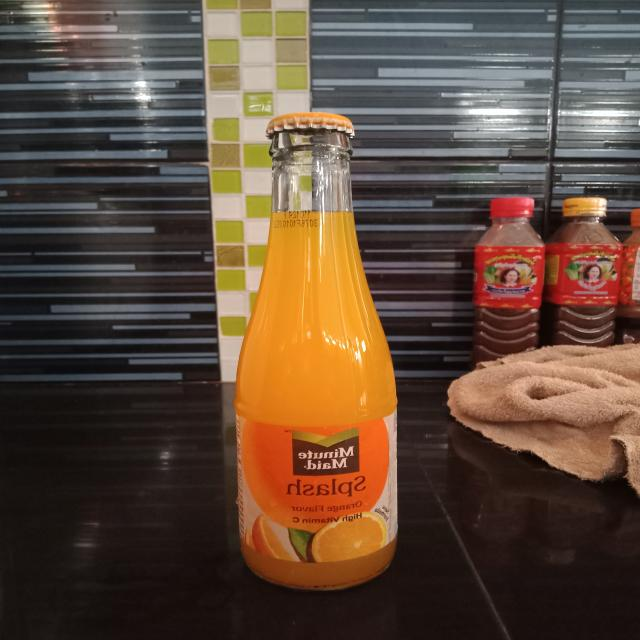glass: (232, 112, 400, 594)
